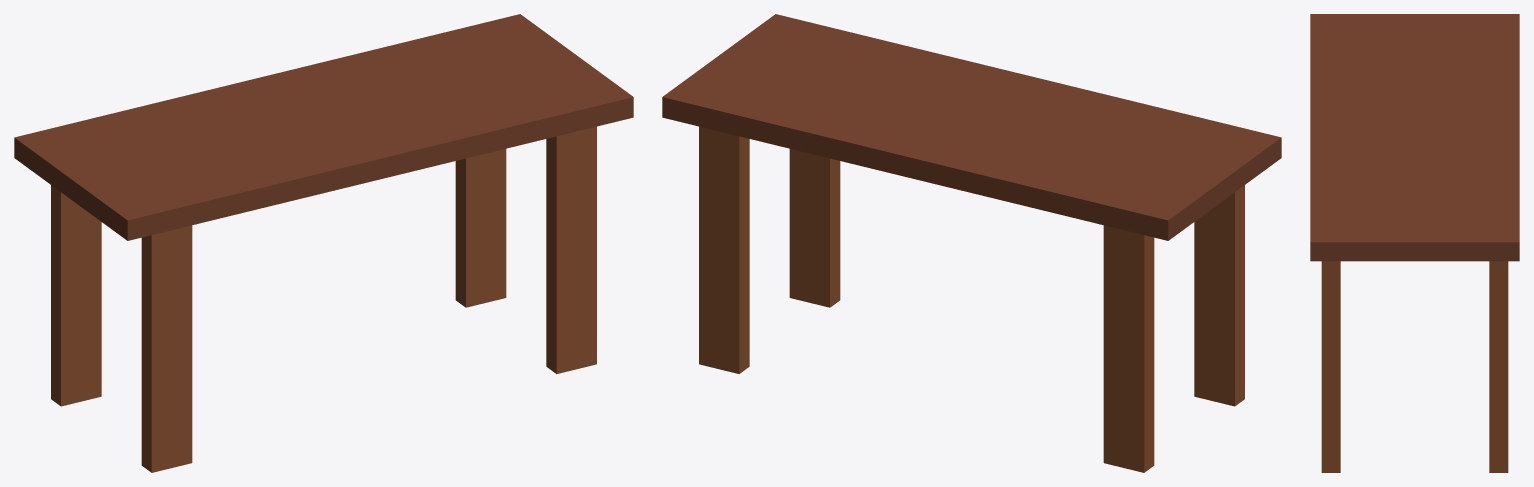
Rendered from folding_table.glb.
The picture shows the model from 3 angles, left to right: view 1: azimuth 30°, elevation 25°; view 2: azimuth 150°, elevation 25°; view 3: azimuth 270°, elevation 25°; orthographic projection. The views are drawn at different scales.
Size of the model in its own units: 1.8 by 0.898 by 0.698.
Materials: 1 (1 with a texture image).
